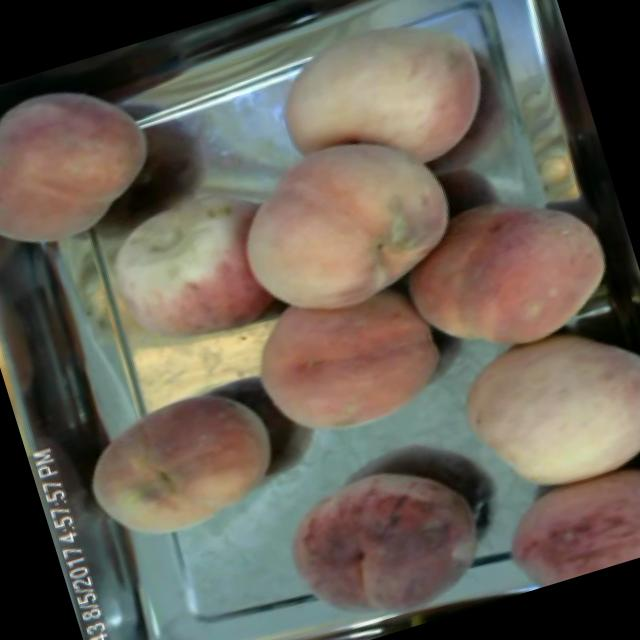Fruit: (212, 100, 484, 342), (372, 154, 634, 374), (249, 0, 516, 212), (258, 425, 521, 640), (231, 252, 474, 463), (62, 367, 298, 562), (428, 301, 640, 513), (0, 56, 177, 276), (465, 422, 640, 600)
